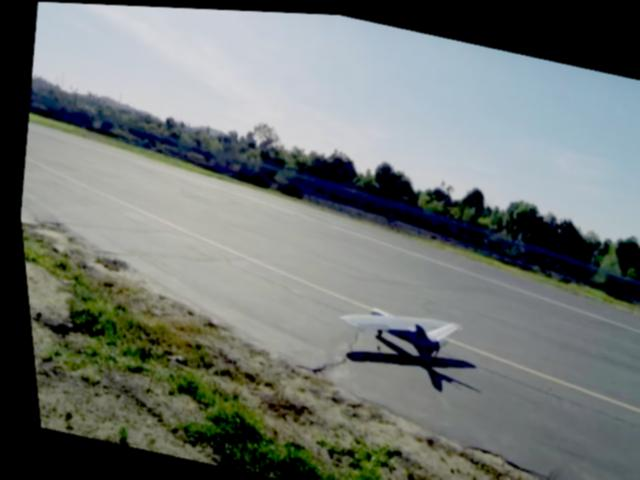iha: (326, 292, 462, 362)
